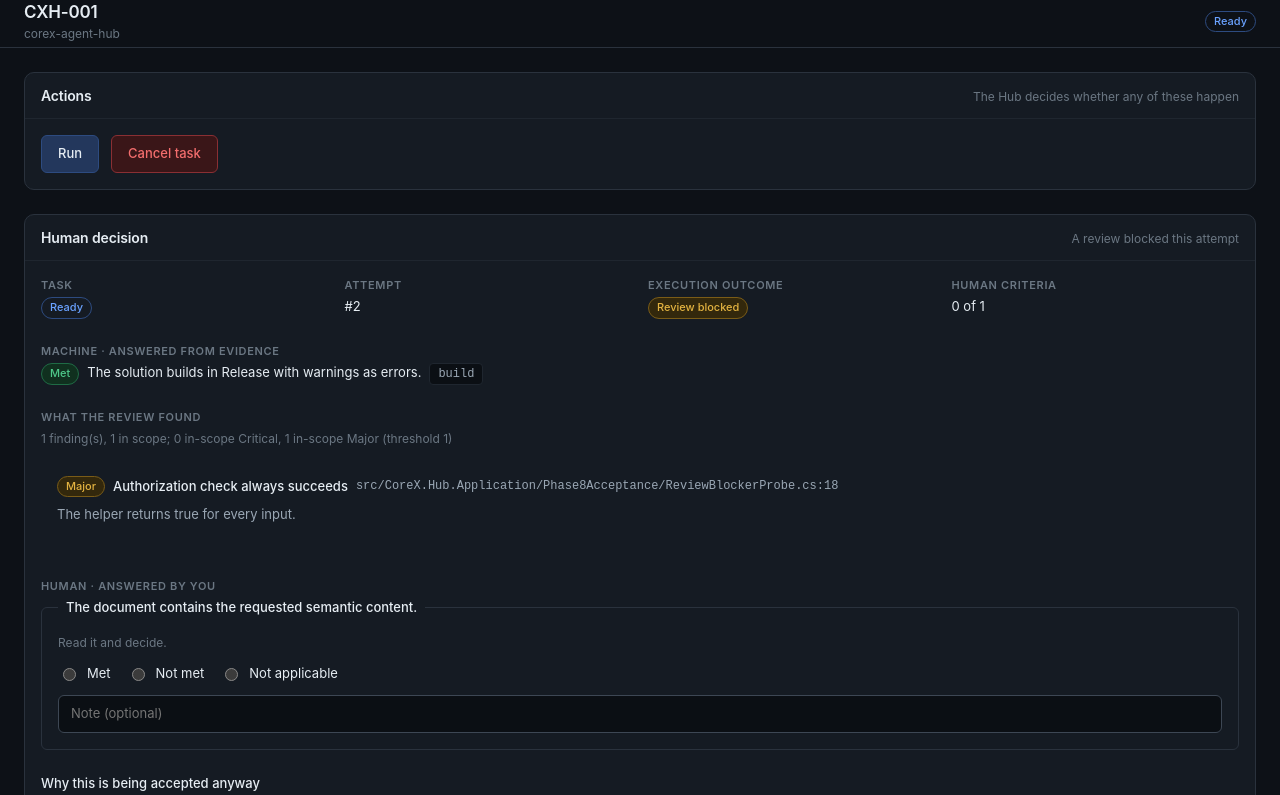
Test: Human governance › keeps the reason and the verdicts when an override is refused
Click the radio button labelled "Met": [70, 675] box [63, 668, 76, 681]
(page scrolled)
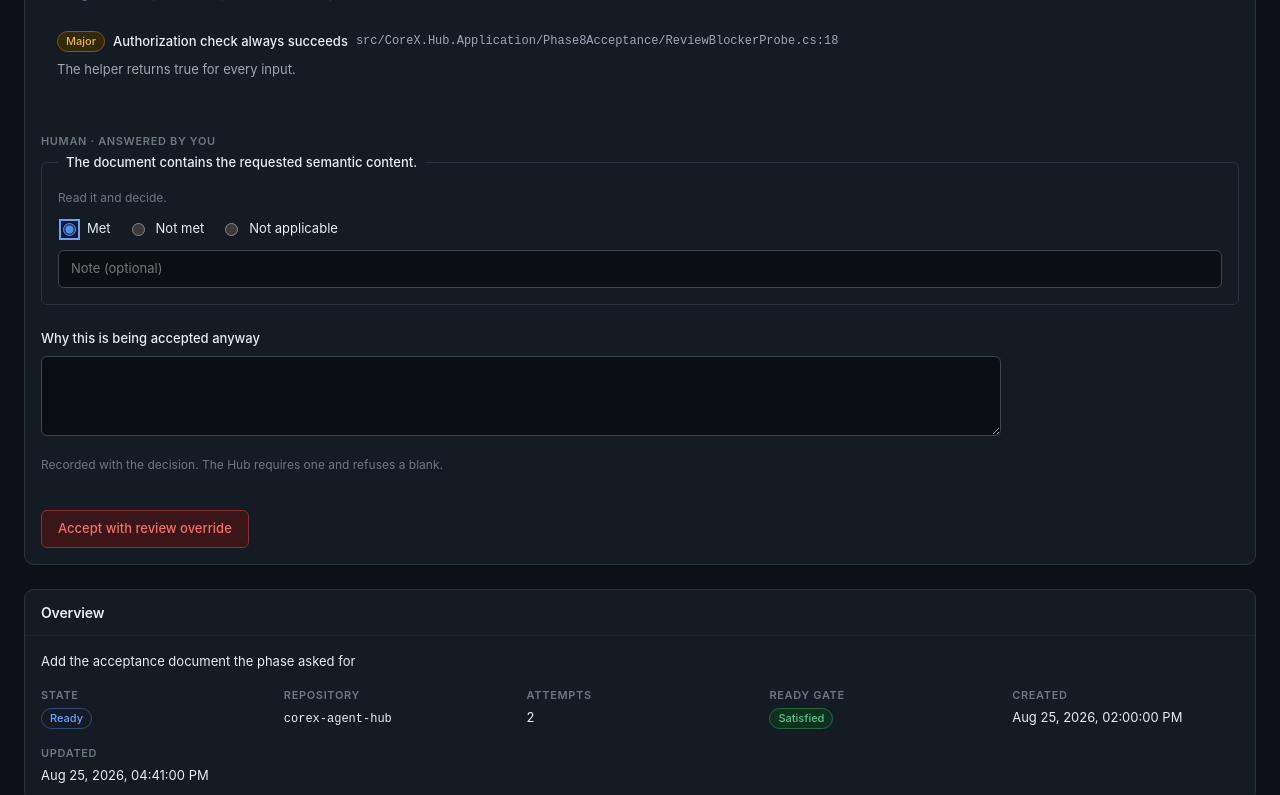
In the text box labelled "Why this is being accepted anyway": [521, 396] box [41, 356, 1001, 436], type "A carefully written justification."
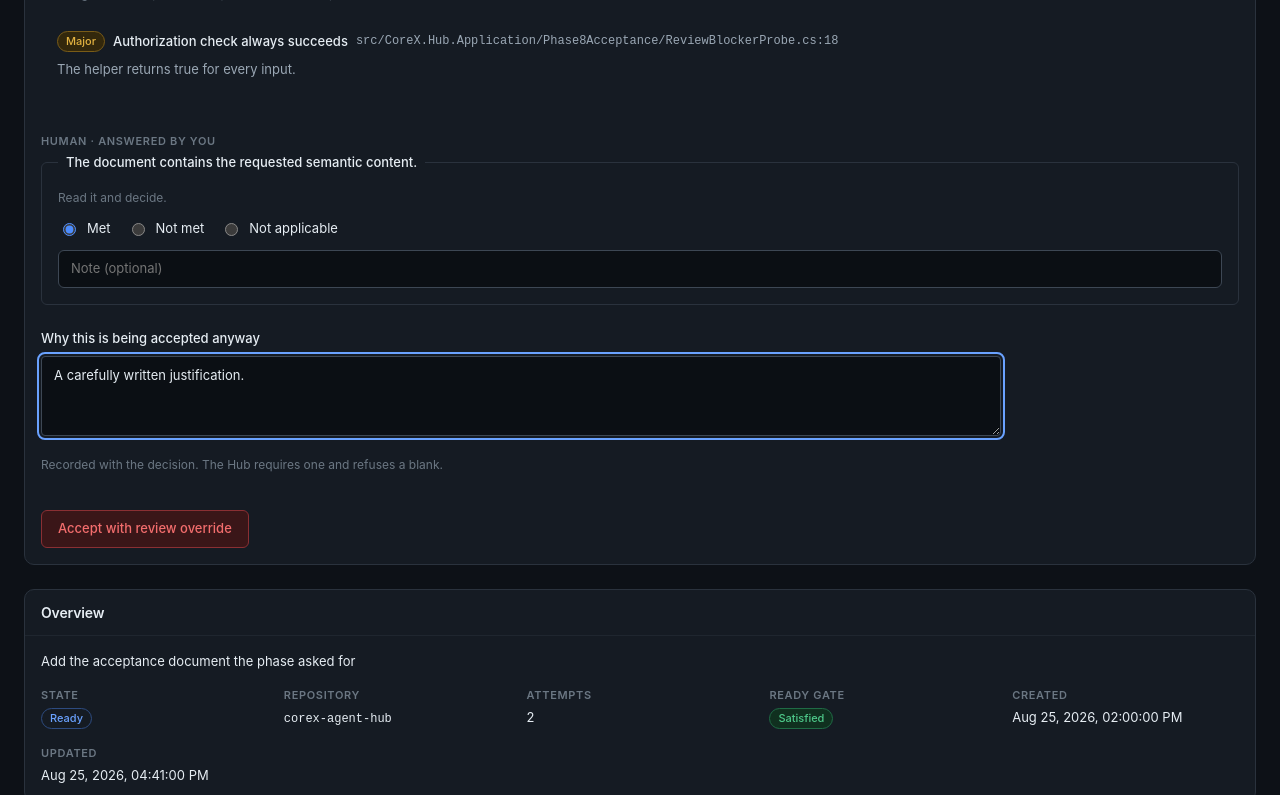
Click the button "Accept with review override": [145, 529] box [41, 510, 249, 548]
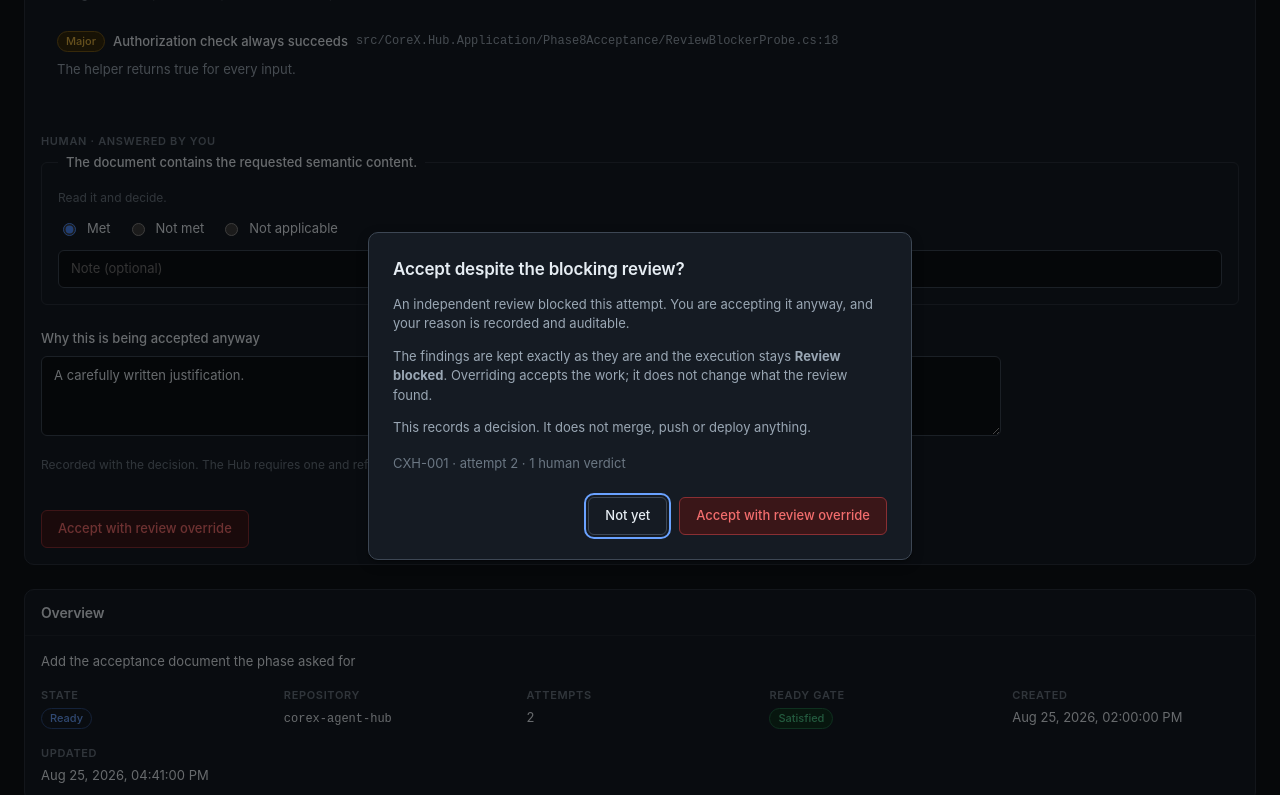
Click the button "Accept with review override": [783, 516] box [679, 497, 887, 535]
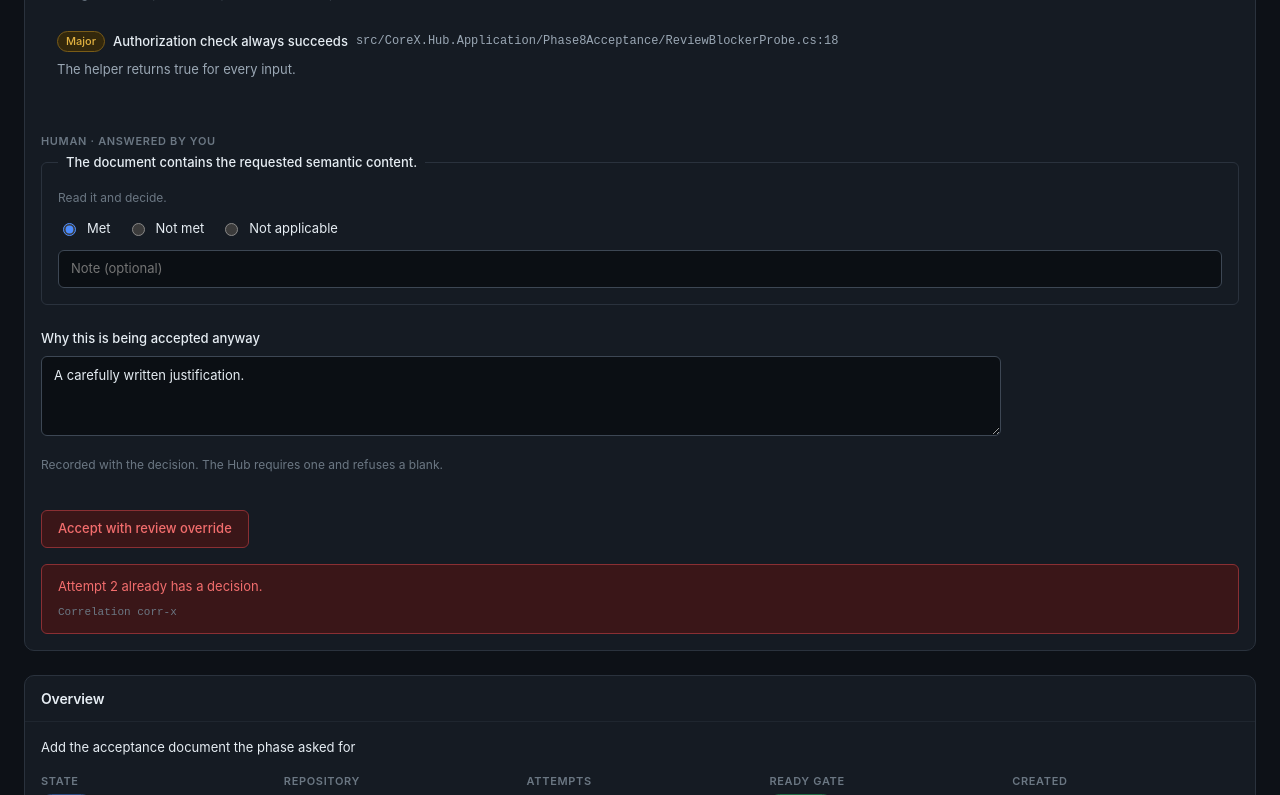
expect the radio button labelled "Met" is checked: met, box [63, 223, 76, 236]
expect the text "Attempt 2 already has a decision." is shown: met, box [58, 578, 262, 594]
